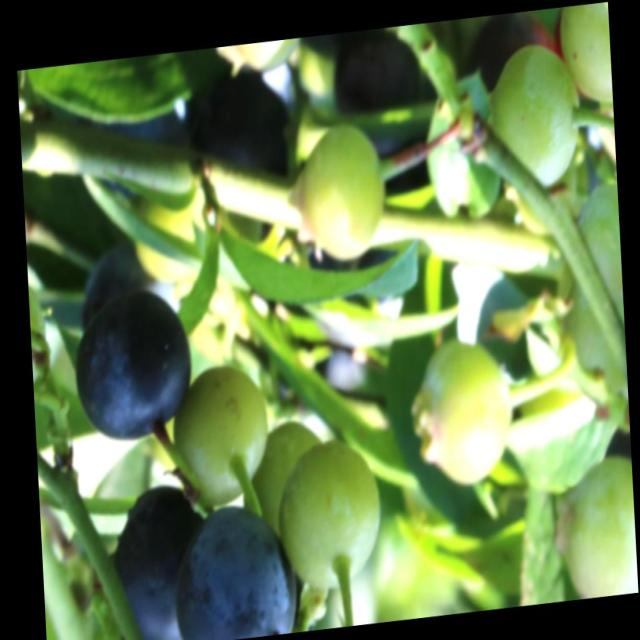blueberry: (68, 287, 197, 443), (168, 500, 297, 639), (106, 480, 193, 639)
blueberry-unripe: (169, 357, 275, 514), (282, 430, 384, 592), (414, 335, 514, 492), (296, 117, 390, 269), (491, 42, 585, 193), (554, 448, 637, 600), (246, 416, 317, 539), (557, 5, 612, 108)
